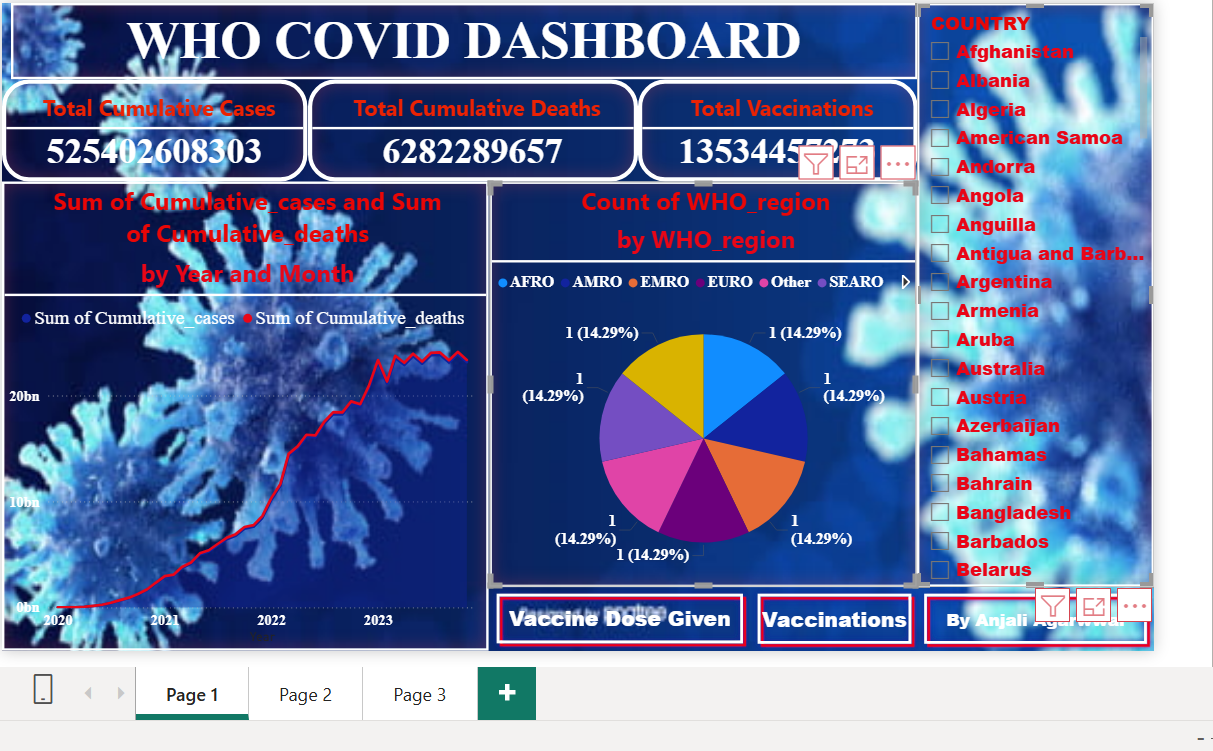

What the dashboard file says about the page in this screenshot:
{"tool":"powerbi","page":{"name":"Page 1","canvas":[1280,720],"ordinal":0},"visuals":[{"type":"textbox","box":[9.6,0,1007,84.4],"z":0},{"type":"card","title":"Total Cumulative Cases","fields":{"Values":["Sum(WHO-COVID-19-global-data (1).Cumulative_cases)"]},"box":[0,84.4,339.5,113.2],"z":1000},{"type":"card","title":"Total Cumulative Deaths","fields":{"Values":["Sum(WHO-COVID-19-global-data (1).Cumulative_deaths)"]},"box":[339.5,84.4,366.4,113.2],"z":2000},{"type":"card","title":"Total Vaccinations","fields":{"Values":["Sum(vaccination-data.TOTAL_VACCINATIONS)"]},"box":[705.9,84.4,310.7,113.2],"z":3000},{"type":"stackedAreaChart","fields":{"Category":["WHO-COVID-19-global-data (1).Date_reported.Variation.Date Hierarchy.Year","WHO-COVID-19-global-data (1).Date_reported.Variation.Date Hierarchy.Month"],"Y":["Sum(WHO-COVID-19-global-data (1).Cumulative_cases)","Sum(WHO-COVID-19-global-data (1).Cumulative_deaths)"]},"box":[0,198.4,540.5,521.6],"z":4000},{"type":"slicer","fields":{"Values":["vaccination-data.COUNTRY"]},"box":[1016.7,0,263.3,648.3],"z":5000},{"type":"actionButton","box":[831.7,648.3,186.7,71.7],"z":6000},{"type":"pieChart","title":"Count of WHO_region","fields":{"Category":["WHO-COVID-19-global-data (1).WHO_region"],"Y":["Count(WHO-COVID-19-global-data (1).WHO_region)"]},"box":[540.9,197.6,475.7,450.8],"z":7000},{"type":"actionButton","box":[540.9,648.3,289.6,71],"z":8000},{"type":"actionButton","box":[1016.7,648.3,263.3,71.7],"z":8001}]}

Visuals, with their boxes in screenshot pixels (x1, y1, x2, y2):
textbox: x1=9, y1=0, x2=916, y2=76
"Total Cumulative Cases" card: x1=0, y1=76, x2=306, y2=178
"Total Cumulative Deaths" card: x1=306, y1=76, x2=636, y2=178
"Total Vaccinations" card: x1=636, y1=76, x2=916, y2=178
stackedAreaChart - WHO-COVID-19-global-data (1).Date_reported.Variation.Date Hierarchy.Year x WHO-COVID-19-global-data (1).Date_reported.Variation.Date Hierarchy.Month: x1=0, y1=179, x2=487, y2=649
slicer - vaccination-data.COUNTRY: x1=916, y1=0, x2=1154, y2=584
actionButton: x1=750, y1=584, x2=918, y2=649
"Count of WHO_region" pieChart: x1=488, y1=178, x2=916, y2=584
actionButton: x1=488, y1=584, x2=749, y2=648
actionButton: x1=916, y1=584, x2=1154, y2=649
